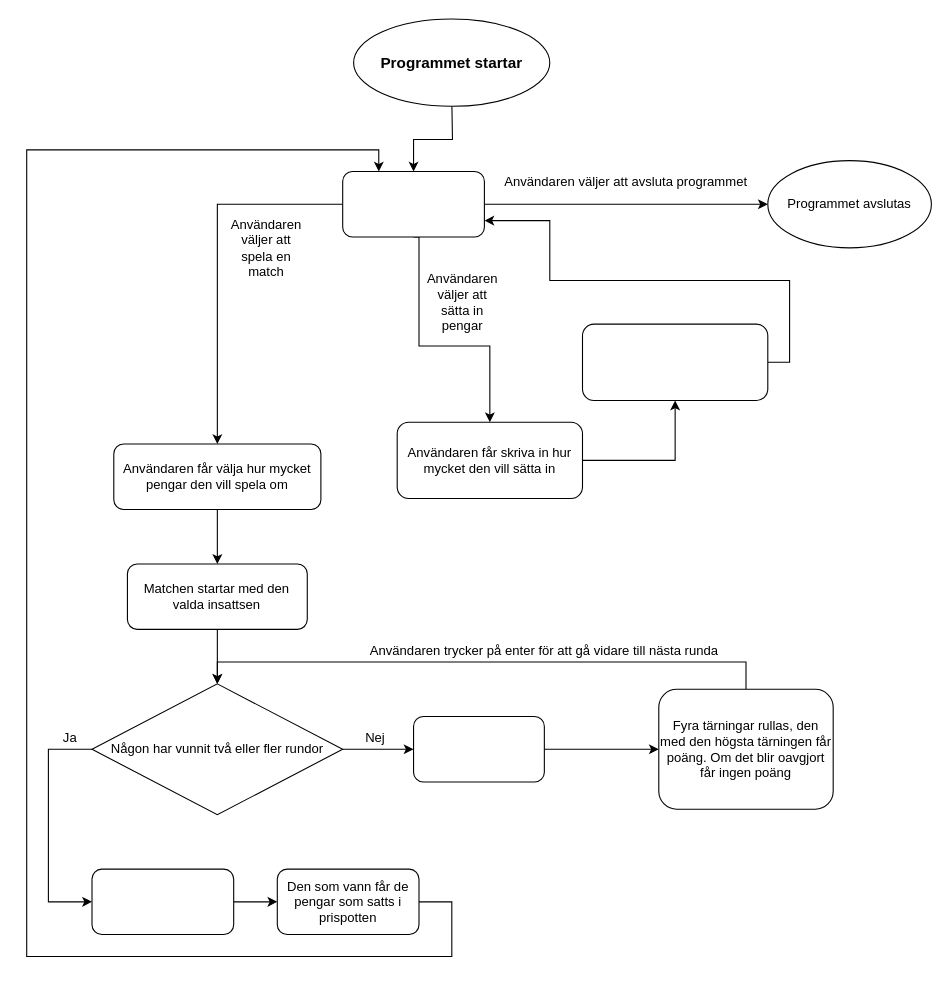
Image size: 950x984. Some labels were removed from this diagram. The box of each missing label's shape, as (x1, y1, x2, y2) in pixels:
Den valda mängden pengar sätts in på kontot: (581, 323, 768, 400)
En runda startas: (412, 715, 544, 782)
Huvudmeny, användaren får välja vad den vill göra: (342, 170, 484, 237)
Vinnaren av matchen presenteras: (91, 868, 234, 935)
